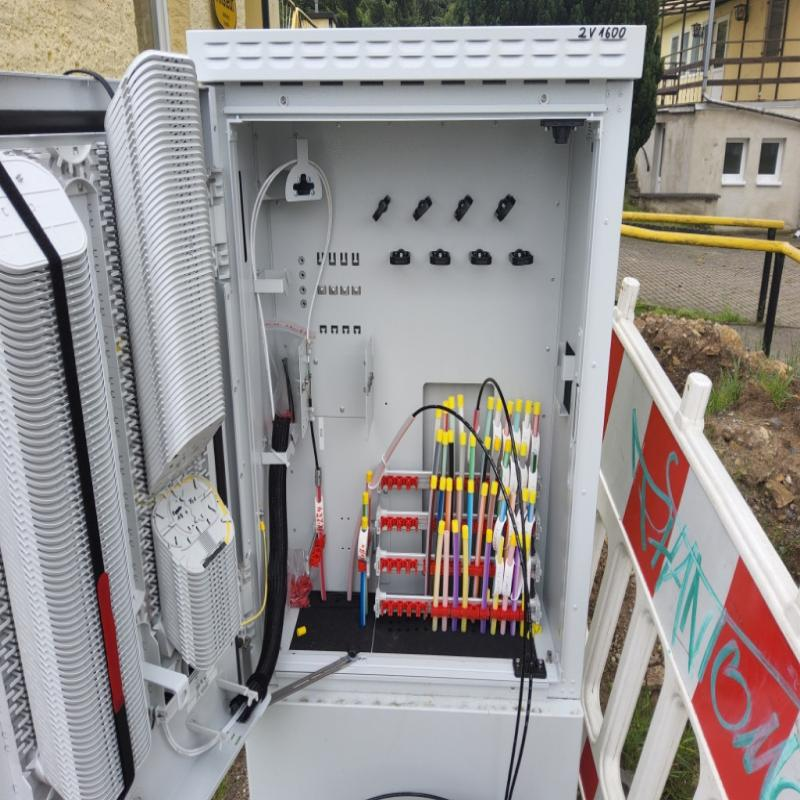NT-Gehause: (0, 31, 639, 800)
Spleiskassetten: (0, 147, 161, 800), (96, 46, 253, 674)
